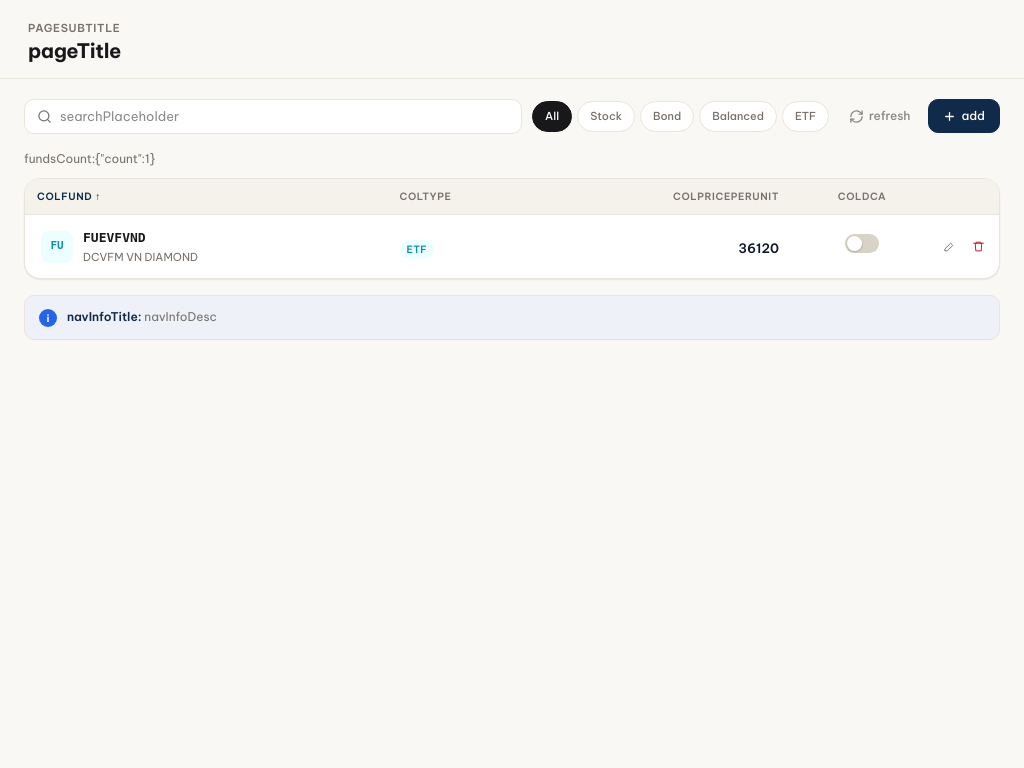
Test case: DesktopFundLibraryView — ETFs › asks about a market price when editing an ETF, and a NAV when editing a fund
Click the button with test id "fund-edit-btn" at (950, 246), box x1=937 y1=234 x2=962 y2=259
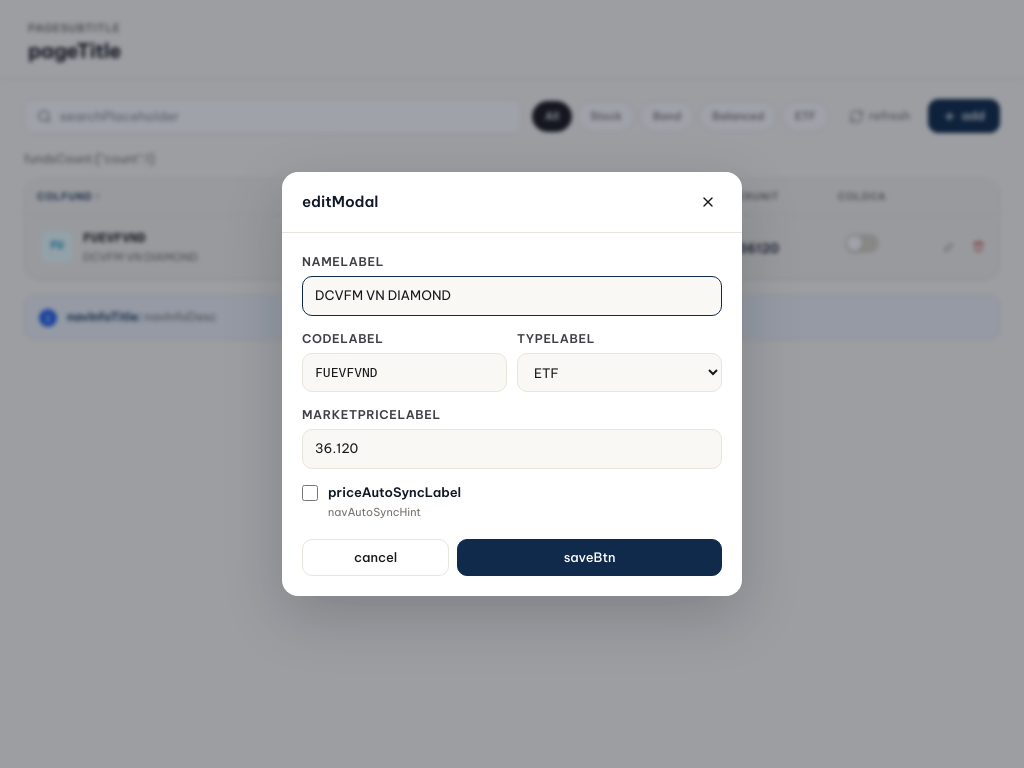
Now the text "marketPriceLabel" is shown, box x1=302 y1=407 x2=441 y2=422
Now the text "priceAutoSyncLabel" is shown, box x1=328 y1=482 x2=461 y2=502
